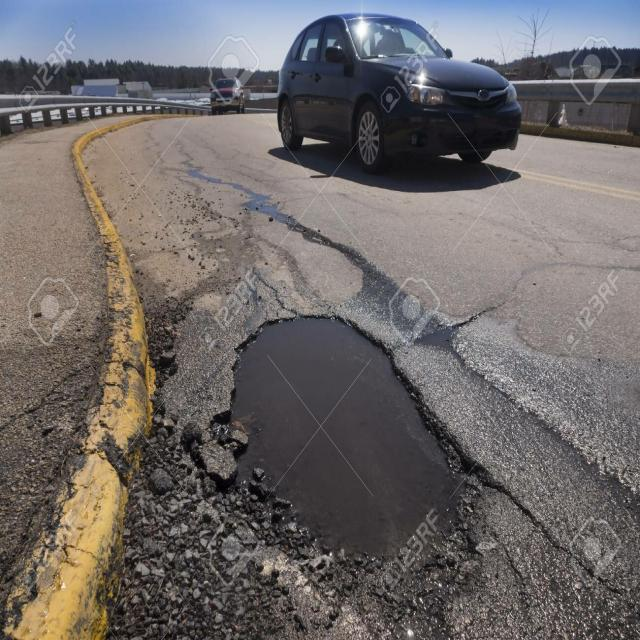Pothole: (190, 286, 522, 627)
